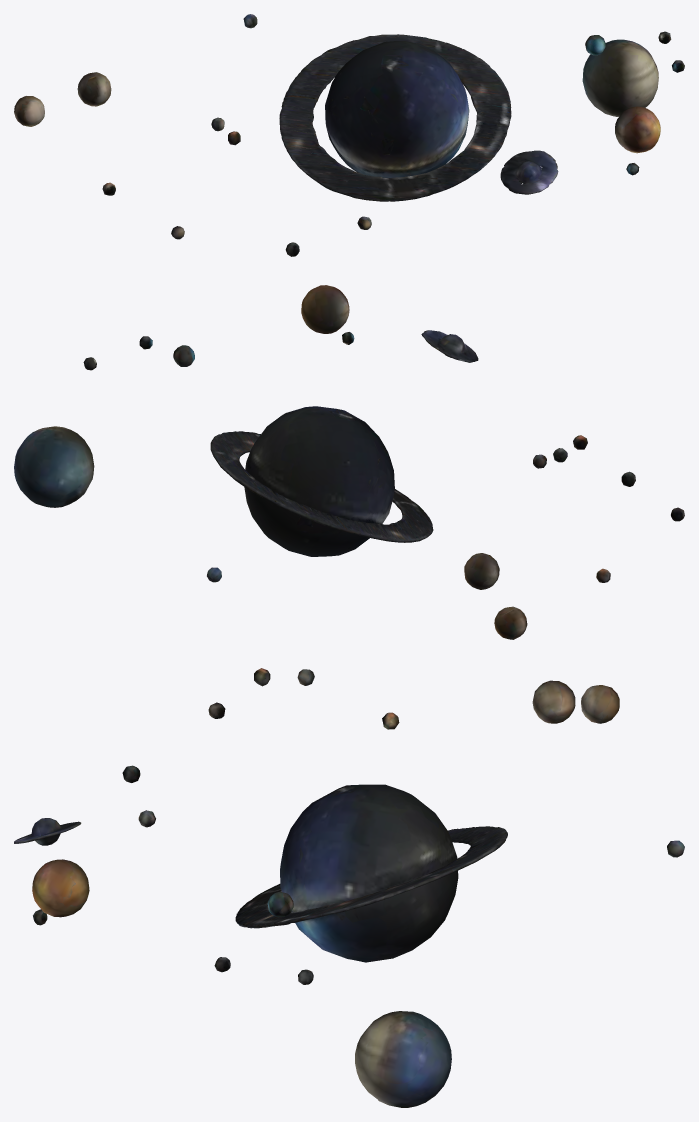
File: cosmos.glb
3 renders of one model, top to bottom at view 1: azimuth 30°, elevation 25°; view 2: azimuth 150°, elevation 25°; view 3: azimuth 270°, elevation 25°, orthographic. The views are drawn at different scales.
Bounding box in the file's own units: 2 × 0.4606 × 1.67.
Materials: 1 (1 with a texture image).
